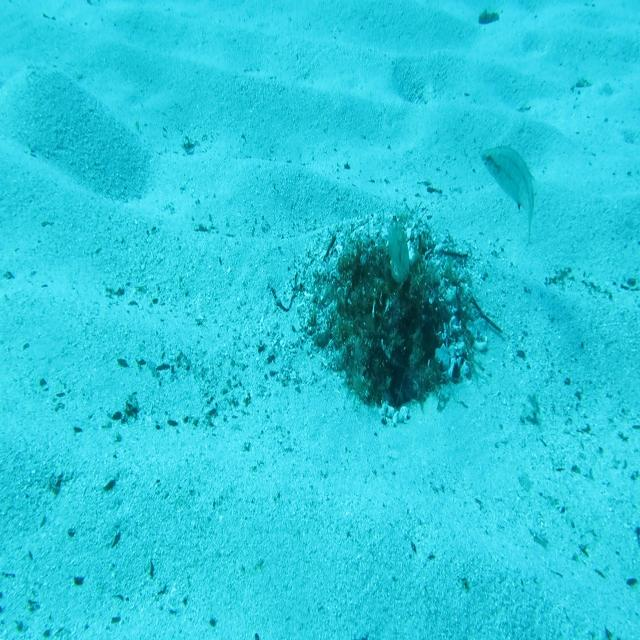NIP_CORE: (383, 216, 413, 289)
core_nest: (361, 257, 399, 288)
female: (479, 141, 539, 247)
nest: (281, 189, 495, 436)
vegetation: (476, 9, 500, 30)
